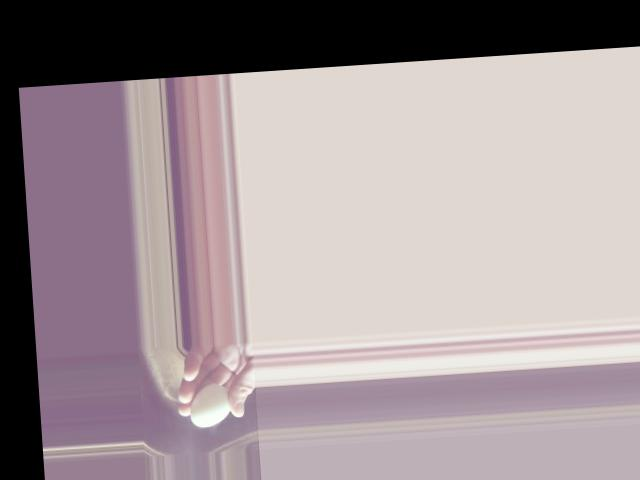egg: (189, 383, 232, 427)
